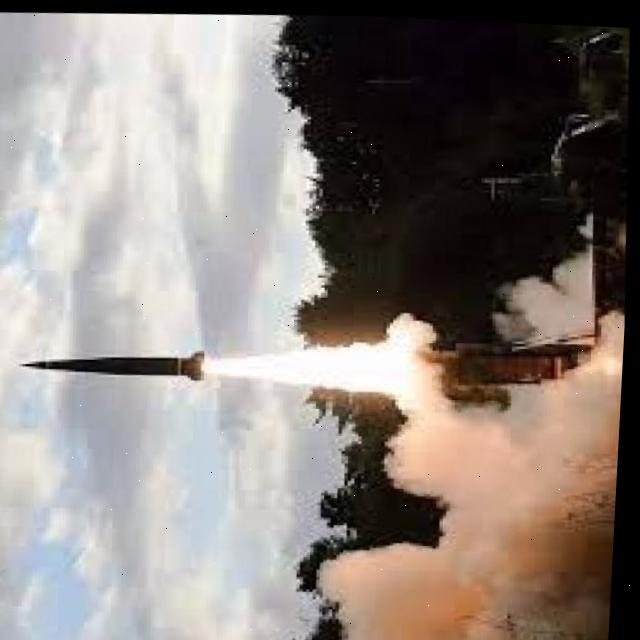missile: (21, 331, 210, 387)
